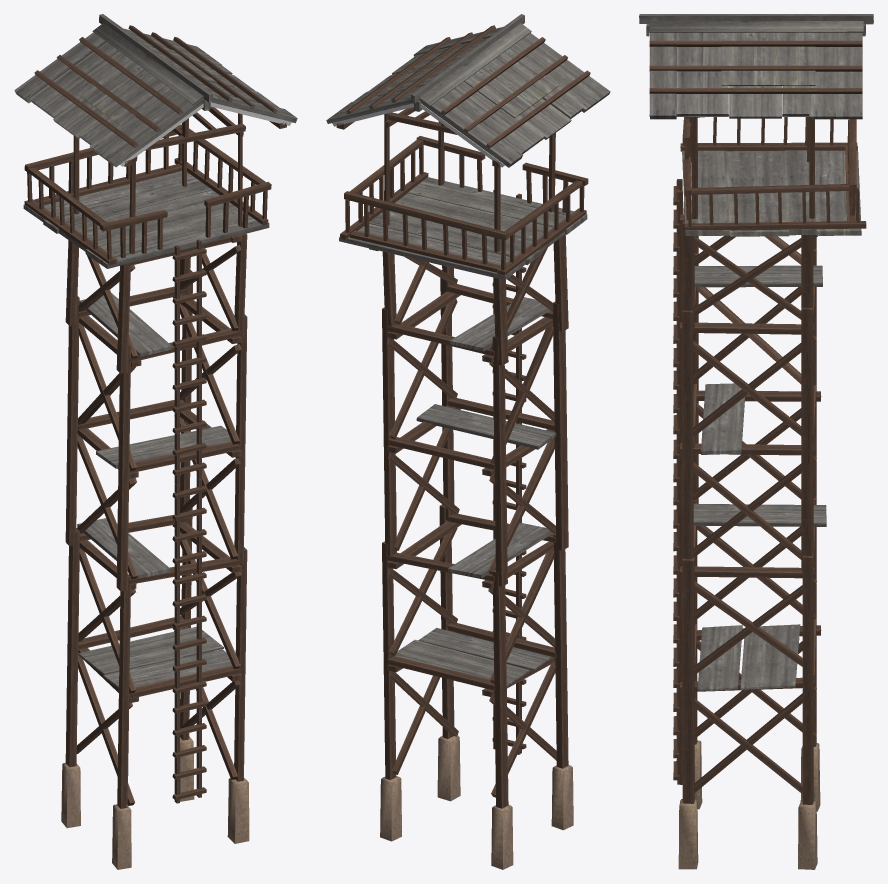
The model's file is jov_lookout01.fbx.
3 views of the same model, side by side, from view 1: azimuth 30°, elevation 25°; view 2: azimuth 150°, elevation 25°; view 3: azimuth 270°, elevation 25° (orthographic). The views are drawn at different scales.
Visible parts, largest first — view 1: jov_lookout01; view 2: jov_lookout01; view 3: jov_lookout01.
Part boxes in pixels (x1,y1,x2,y2): jov_lookout01: (14, 14, 297, 869); jov_lookout01: (326, 14, 610, 869); jov_lookout01: (639, 14, 873, 869).
Size of the model in its own units: 268 by 1078 by 278.
